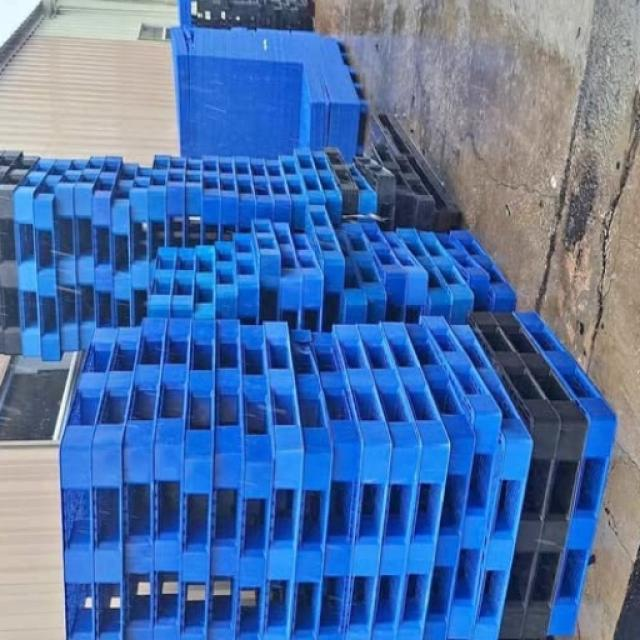non-igps: (509, 308, 622, 640), (485, 307, 596, 640), (462, 306, 567, 640), (414, 311, 506, 640), (445, 318, 538, 640), (400, 318, 480, 640), (377, 315, 452, 640), (353, 317, 427, 640), (54, 320, 128, 640), (329, 320, 400, 640), (85, 320, 150, 640), (113, 312, 175, 640), (308, 328, 369, 640), (143, 313, 200, 640), (280, 325, 338, 640), (252, 317, 308, 640), (171, 314, 221, 640), (199, 315, 249, 640), (228, 322, 277, 640), (364, 106, 467, 237), (7, 151, 64, 363), (30, 154, 80, 368), (0, 150, 48, 362), (50, 154, 99, 359), (69, 151, 114, 357), (85, 150, 129, 335), (299, 201, 351, 340), (354, 213, 416, 329), (392, 223, 458, 331), (412, 224, 479, 330), (123, 162, 165, 331), (446, 225, 521, 318), (105, 157, 144, 335), (371, 227, 433, 330), (429, 226, 494, 322), (339, 218, 393, 328), (142, 148, 176, 309), (329, 226, 374, 330), (287, 228, 328, 339), (349, 151, 402, 236), (270, 219, 308, 335), (319, 142, 365, 235), (249, 213, 285, 329), (306, 147, 351, 235), (229, 229, 264, 330), (258, 155, 298, 242), (143, 242, 184, 324), (276, 151, 312, 238), (165, 242, 200, 326), (342, 157, 384, 227), (210, 238, 243, 327), (189, 241, 223, 326), (164, 152, 192, 252), (229, 152, 261, 237), (290, 143, 330, 211), (247, 154, 277, 238), (215, 153, 241, 249), (199, 152, 223, 254), (184, 155, 206, 253), (0, 142, 25, 196)
